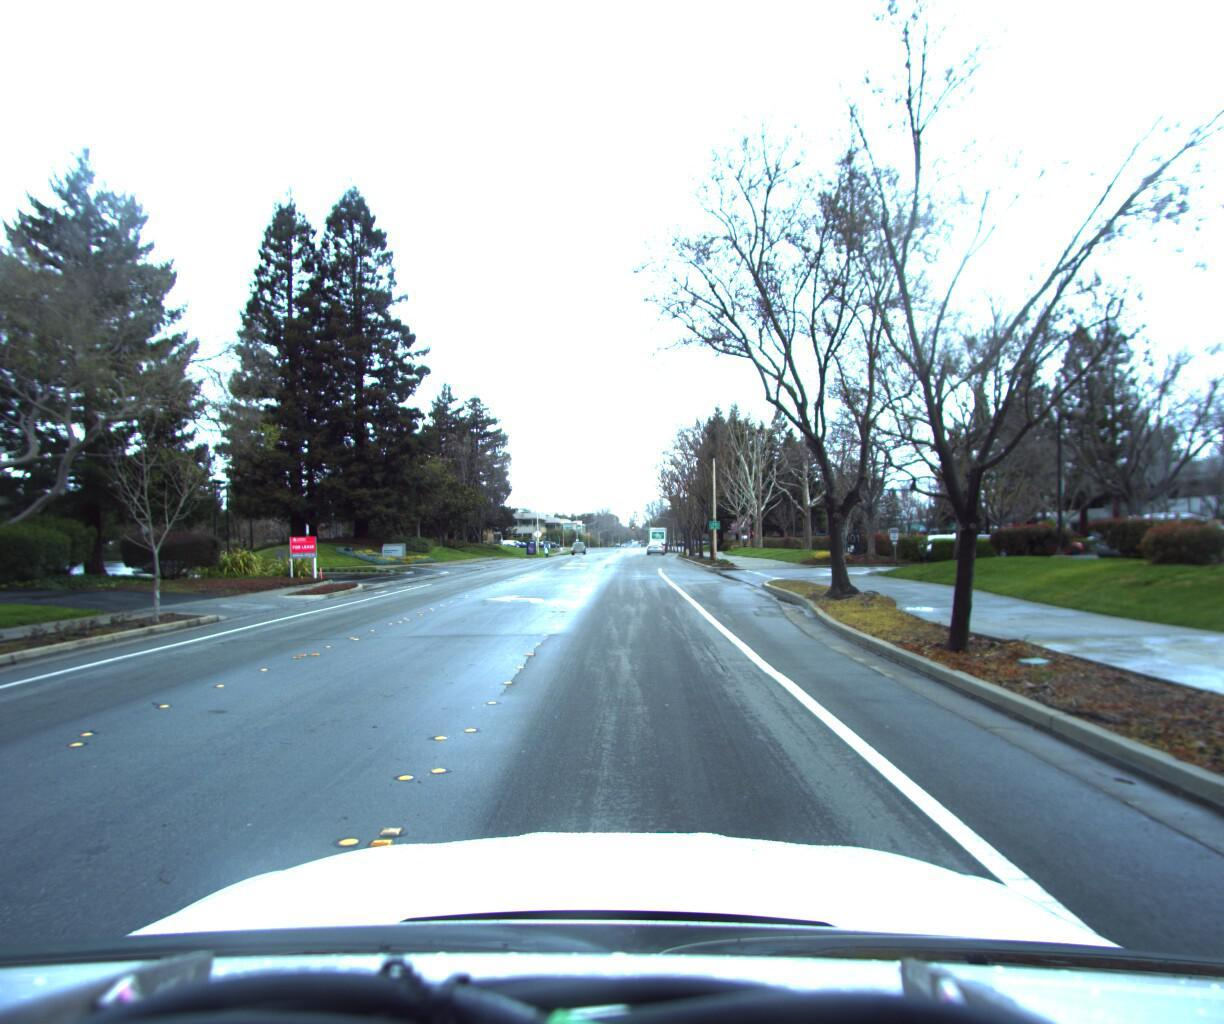car: (1084, 508, 1224, 573), (894, 523, 982, 555), (644, 541, 662, 556)
